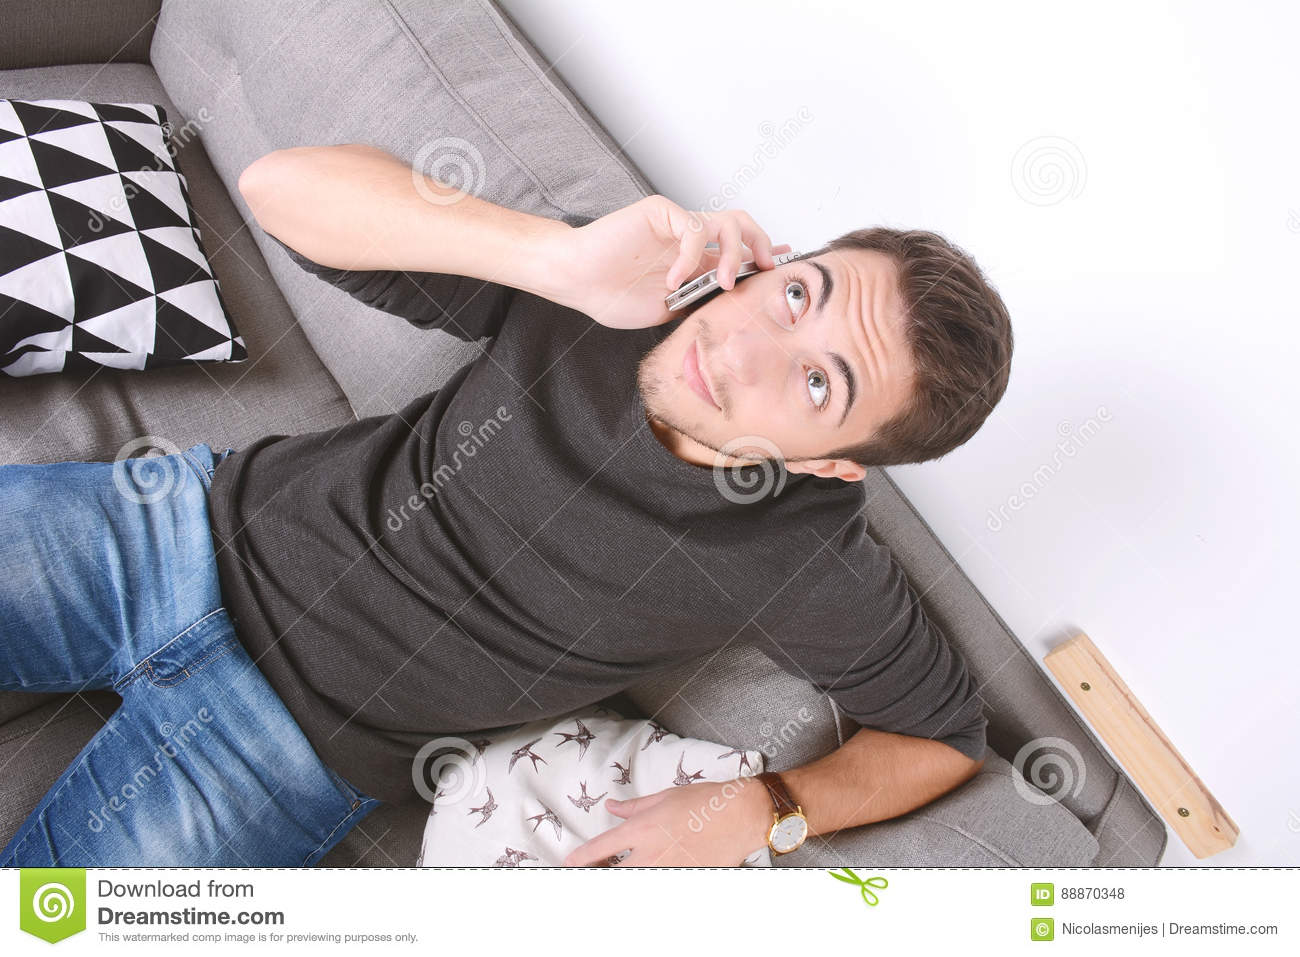phone: (662, 243, 804, 310)
talk: (562, 192, 868, 480)
